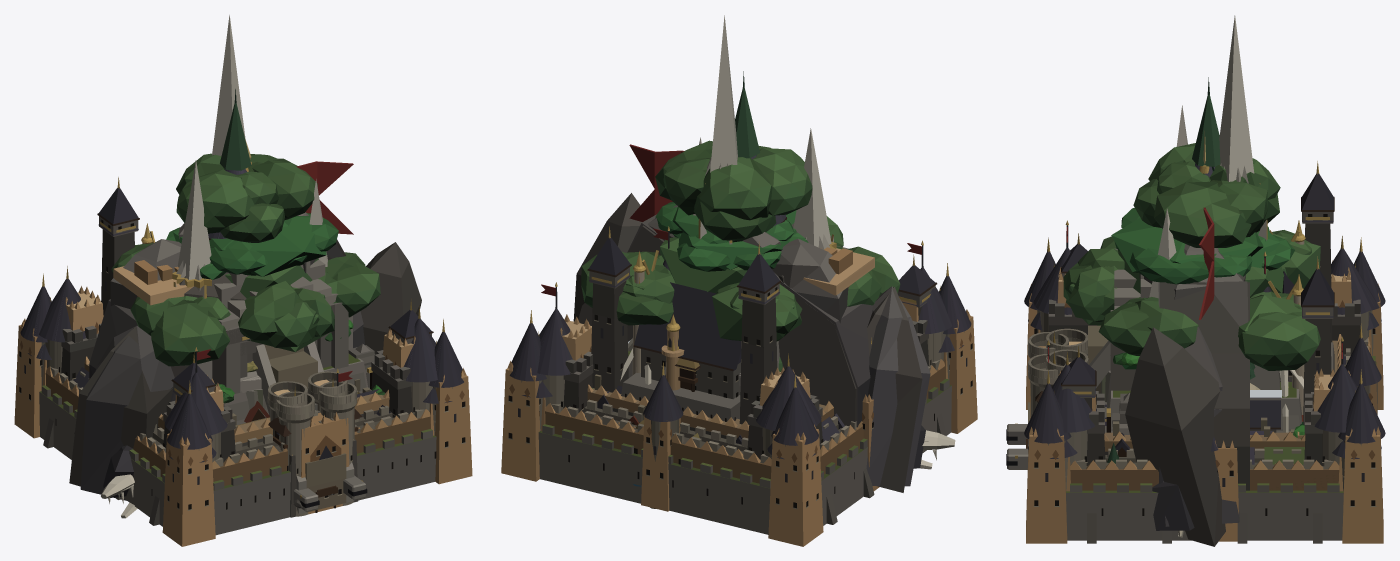
File: world-props-low.glb
The picture shows the model from 3 angles, left to right: view 1: azimuth 30°, elevation 25°; view 2: azimuth 150°, elevation 25°; view 3: azimuth 270°, elevation 25°; orthographic projection. The views are drawn at different scales.
Parts seen in each view (by area): view 1: elderoak-1, city-desert, dwarfgate-1, city-marsh, city-temperate, dwarfgate-1_lo, castle-temperate, city-north, elfspire-1_lo, castle-north, temple-1, castle-desert (+11 smaller); view 2: city-desert, elderoak-1, city-marsh, city-north, dwarfgate-1, dwarfgate-1_lo, castle-temperate, city-temperate, city-north_lo, elfspire-1_lo, castle-desert, elderoak-1_lo (+12 smaller); view 3: elderoak-1, dwarfgate-1_lo, city-desert, city-marsh, city-north, city-temperate, castle-temperate, dwarfgate-1, elfspire-1_lo, castle-north, elderoak-1_lo, castle-desert (+11 smaller).
Boxes of the visible parts, x1,y1,x2,y2 form: elderoak-1: (111, 153, 380, 366); city-desert: (14, 237, 472, 546); dwarfgate-1: (80, 212, 374, 508); city-marsh: (39, 385, 436, 535); city-temperate: (20, 273, 463, 516); dwarfgate-1_lo: (69, 239, 421, 486); castle-temperate: (39, 266, 437, 462); city-north: (43, 177, 433, 525); elfspire-1_lo: (177, 15, 327, 279); castle-north: (59, 324, 414, 462); temple-1: (215, 320, 385, 514); castle-desert: (65, 286, 415, 443); city-desert: (501, 265, 977, 546); elderoak-1: (581, 140, 900, 341); city-marsh: (538, 379, 951, 534); city-north: (587, 226, 946, 524); dwarfgate-1: (627, 205, 930, 486); dwarfgate-1_lo: (573, 193, 922, 492); castle-temperate: (537, 226, 952, 459); city-temperate: (509, 263, 971, 463); city-north_lo: (589, 275, 927, 424); elfspire-1_lo: (699, 15, 831, 247); castle-desert: (560, 276, 918, 438); elderoak-1_lo: (625, 237, 801, 340); elderoak-1: (1063, 143, 1320, 370); dwarfgate-1_lo: (1120, 274, 1249, 546); city-desert: (1026, 234, 1383, 543); city-marsh: (1066, 356, 1376, 540); city-north: (1061, 161, 1334, 543); city-temperate: (1024, 237, 1385, 468); castle-temperate: (1033, 220, 1375, 466); dwarfgate-1: (1106, 244, 1248, 530); elfspire-1_lo: (1149, 15, 1254, 298); castle-north: (1048, 299, 1360, 465); elderoak-1_lo: (1066, 233, 1320, 337); castle-desert: (1057, 260, 1351, 451).
Size of the model in its own units: 1.12 by 1.37 by 1.01.
